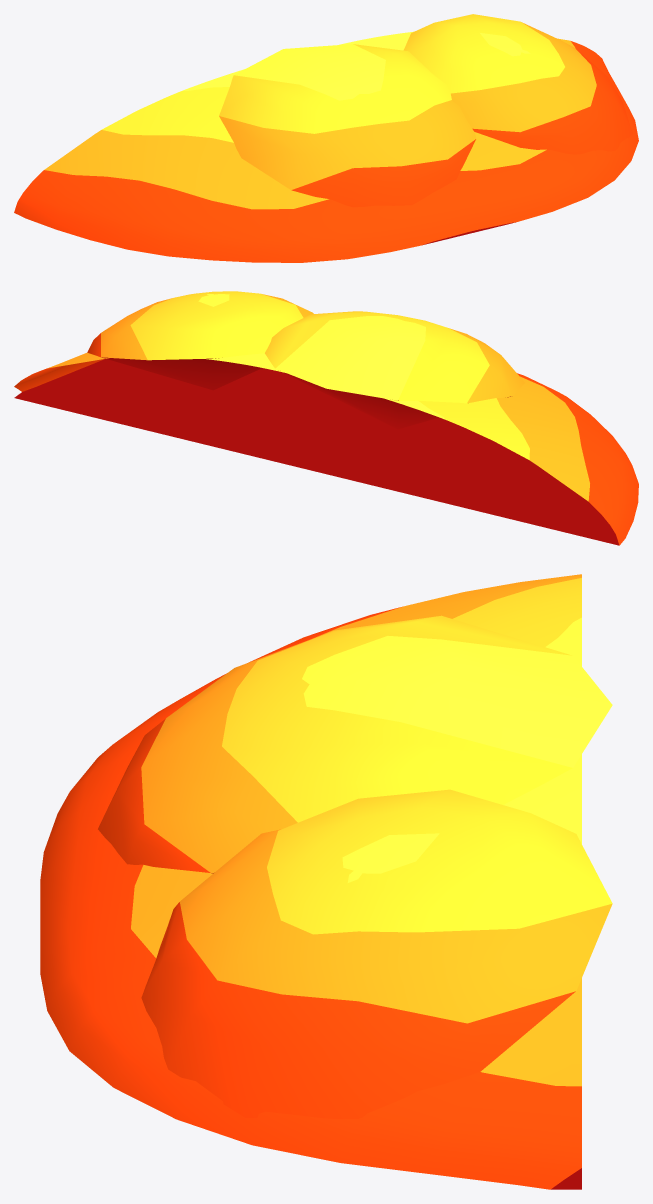
The model's file is shot_plasmastorm_24.glb.
3 views of the same model, one above another, from view 1: azimuth 30°, elevation 25°; view 2: azimuth 150°, elevation 25°; view 3: azimuth 270°, elevation 25° (orthographic). The views are drawn at different scales.
Parts seen in each view (by area): view 1: plasmastorm_bed_o24, plasmastorm_billow8_o24, plasmastorm_billow10_o24; view 2: plasmastorm_bed_o24, plasmastorm_billow8_o24, plasmastorm_billow10_o24; view 3: plasmastorm_billow10_o24, plasmastorm_bed_o24, plasmastorm_billow8_o24.
Part boxes in pixels (x1=…): plasmastorm_bed_o24: x1=14, y1=31, x2=638, y2=262; plasmastorm_billow8_o24: x1=219, y1=44, x2=476, y2=207; plasmastorm_billow10_o24: x1=403, y1=14, x2=633, y2=154; plasmastorm_bed_o24: x1=14, y1=352, x2=638, y2=545; plasmastorm_billow8_o24: x1=265, y1=311, x2=524, y2=429; plasmastorm_billow10_o24: x1=87, y1=291, x2=313, y2=390; plasmastorm_billow10_o24: x1=141, y1=789, x2=612, y2=1118; plasmastorm_bed_o24: x1=40, y1=574, x2=581, y2=1189; plasmastorm_billow8_o24: x1=98, y1=615, x2=612, y2=873.
Size of the model in its own units: 57.67 by 10.5 by 24.31.
